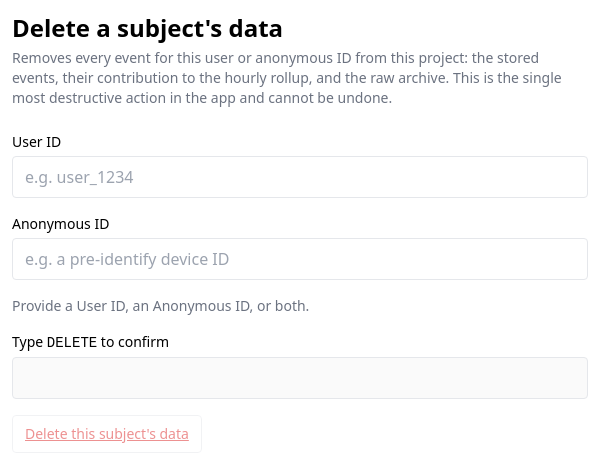
SubjectDeletion › the delete button is disabled until an identifier is given and DELETE is typed
Expected: the button "Delete this subject's data" is disabled, [12,415,202,453]
In the field labelled "User ID": (300,177) [12,156,588,198], type "user-1"
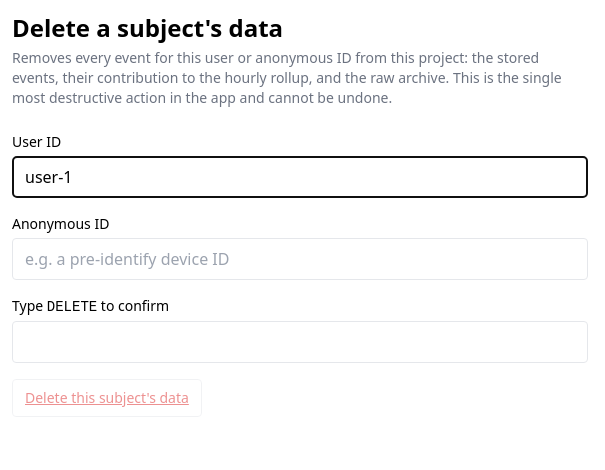
Expected: the button "Delete this subject's data" is disabled, [12,379,202,417]
In the field labelled "Type DELETE to confirm": (300,342) [12,321,588,363], type "DELETE"
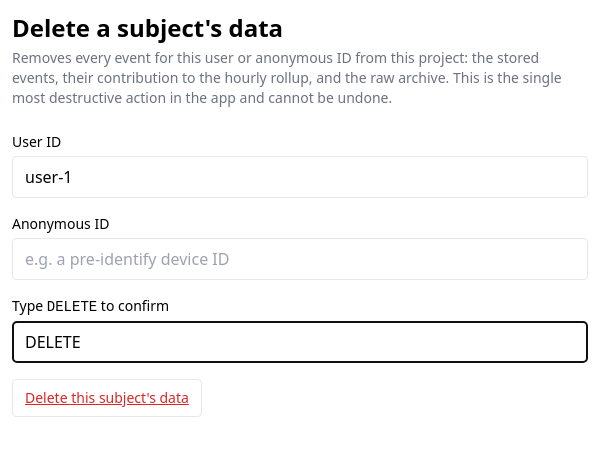
Expected: the button "Delete this subject's data" is enabled, [12,379,202,417]
